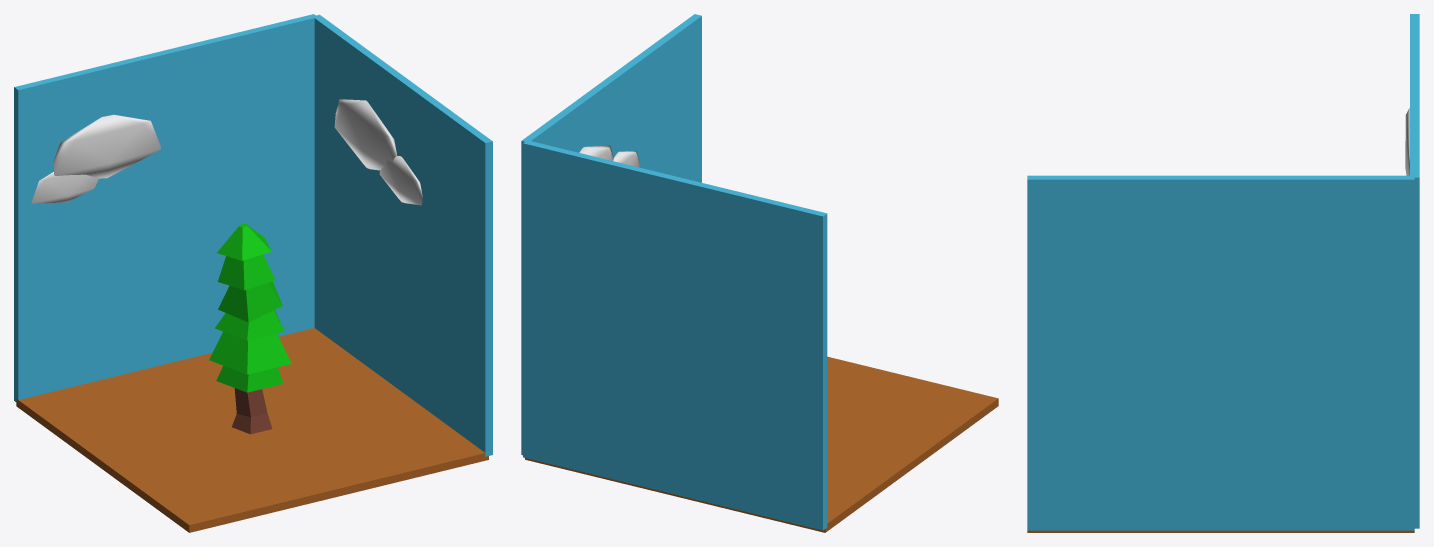
File: tree.glb
3 views of the same model, side by side, from view 1: azimuth 30°, elevation 25°; view 2: azimuth 150°, elevation 25°; view 3: azimuth 270°, elevation 25° (orthographic). The views are drawn at different scales.
Visible parts, largest first — view 1: Cube, Cube.002, Cylinder.001, Icosphere.003, Icosphere, Icosphere.002, Cylinder, Icosphere.001; view 2: Cube, Cube.002; view 3: Cube, Cube.002.
Boxes of the visible parts, x1=… form: Cube: x1=14, y1=14, x2=492, y2=456; Cube.002: x1=16, y1=328, x2=488, y2=532; Cylinder.001: x1=209, y1=224, x2=291, y2=392; Icosphere.003: x1=53, y1=114, x2=160, y2=178; Icosphere: x1=334, y1=99, x2=397, y2=170; Icosphere.002: x1=31, y1=172, x2=98, y2=203; Cylinder: x1=232, y1=388, x2=272, y2=434; Icosphere.001: x1=379, y1=156, x2=422, y2=205; Cube: x1=521, y1=14, x2=827, y2=530; Cube.002: x1=525, y1=356, x2=998, y2=532; Cube: x1=1027, y1=14, x2=1419, y2=530; Cube.002: x1=1027, y1=530, x2=1414, y2=532.
Bounding box in the file's own units: 2.02 × 2.02 × 2.02.
